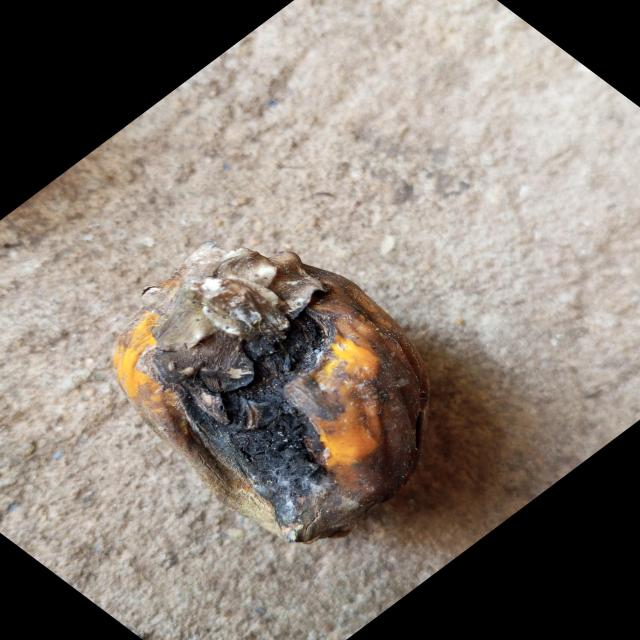damaged: (111, 244, 429, 545)
